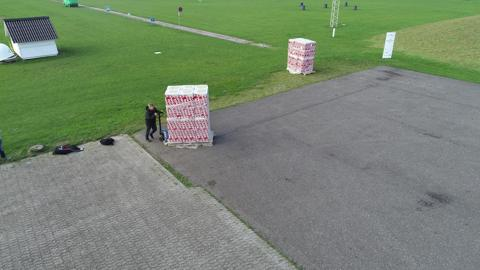RockwoolPallet: (165, 86, 211, 143)
